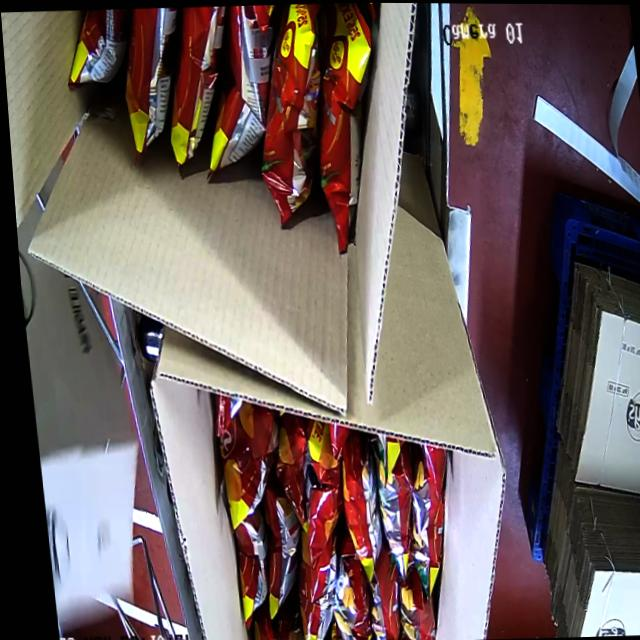MASALA: (53, 0, 392, 212), (201, 387, 459, 640)
